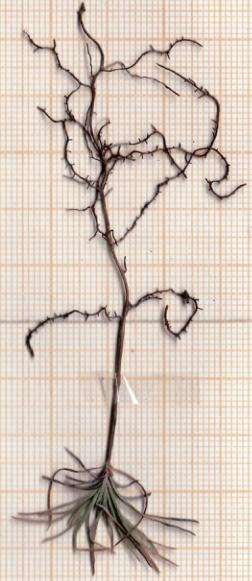flower: (11, 453, 205, 581)
root: (8, 0, 250, 362)
stem: (98, 324, 131, 459)
